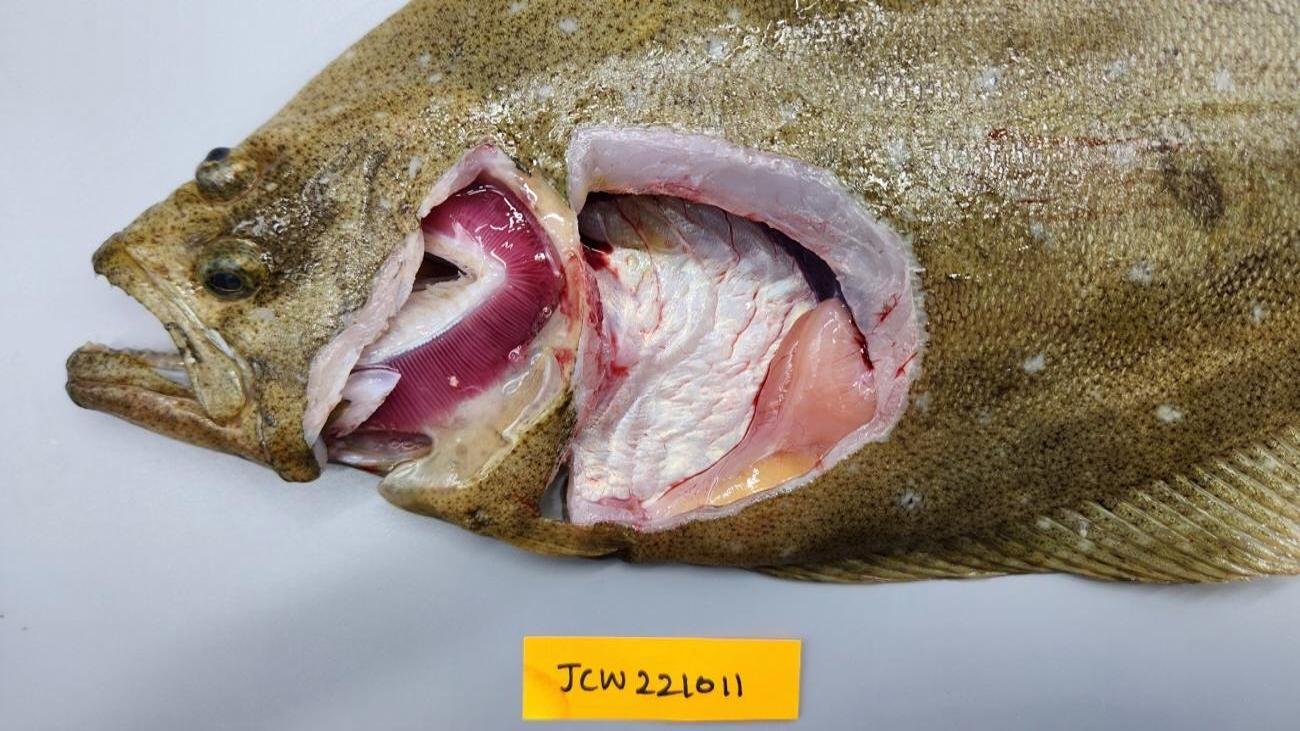POASN: (569, 193, 817, 521)
POREN: (644, 301, 874, 517)
